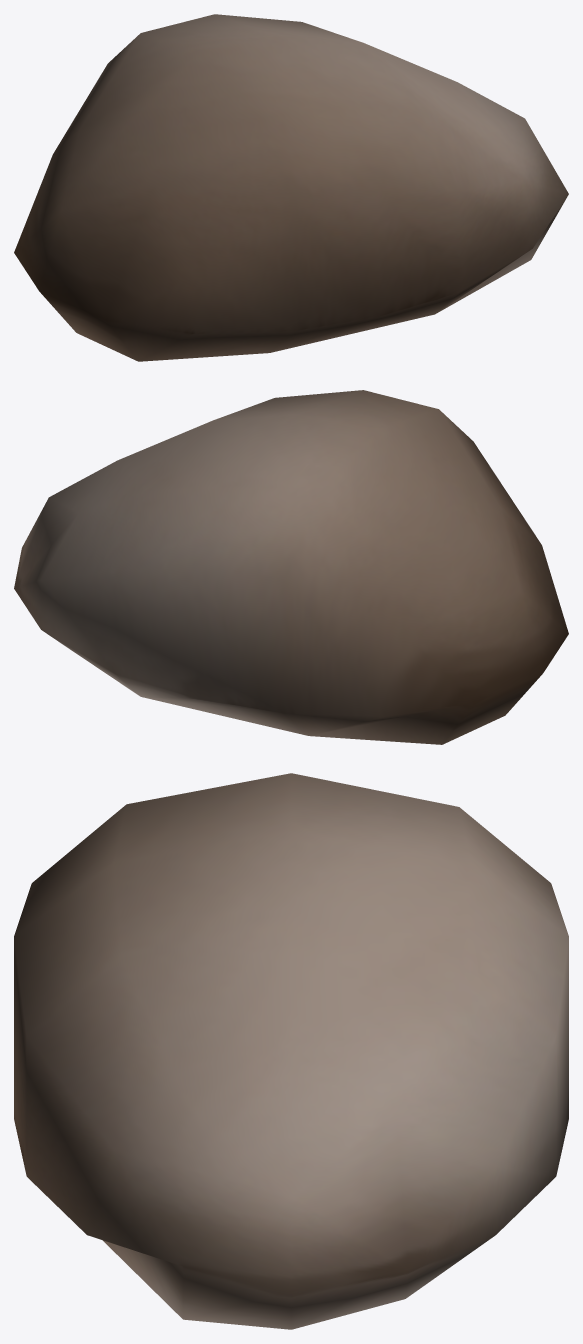
The model's file is rock_1.fbx.
3 renders of one model, top to bottom at view 1: azimuth 30°, elevation 25°; view 2: azimuth 150°, elevation 25°; view 3: azimuth 270°, elevation 25°, orthographic. The views are drawn at different scales.
Parts seen in each view (by area): view 1: rock_1; view 2: rock_1; view 3: rock_1.
Boxes of the visible parts, box(x1,y1,x2,y2) form: rock_1: box(14, 14, 568, 361); rock_1: box(14, 390, 568, 744); rock_1: box(14, 773, 568, 1329).
Size of the model in its own units: 24.59 by 11.45 by 16.55.
